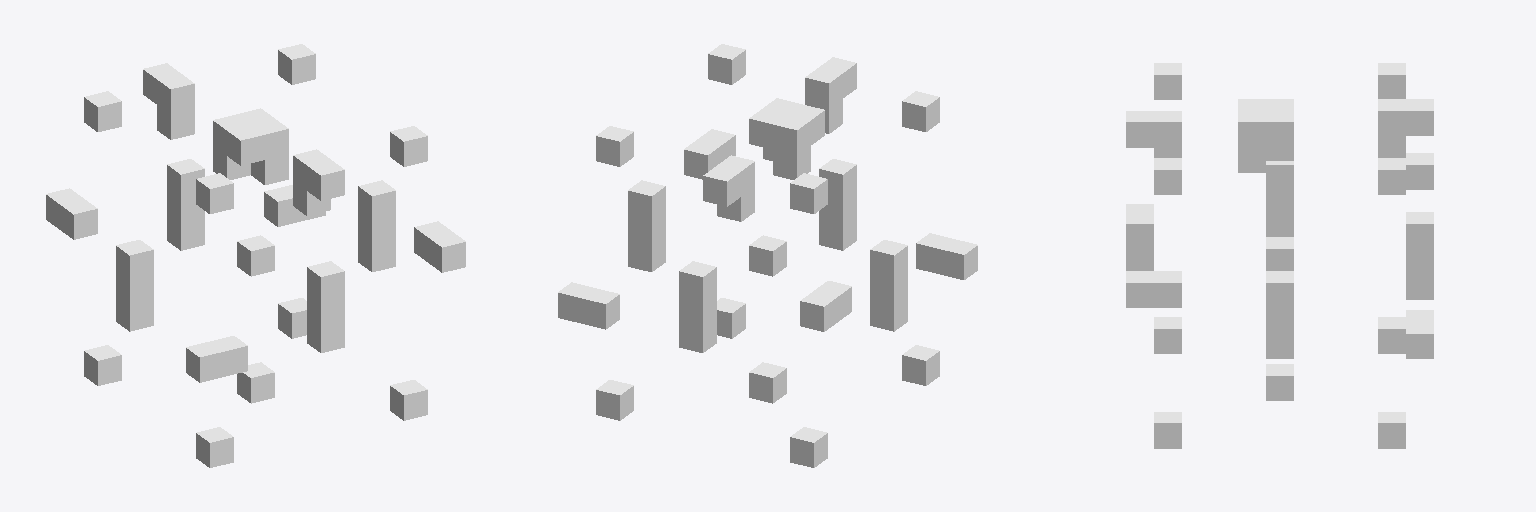
The model's file is level_04.obj.
3 views of the same model, side by side, from view 1: azimuth 30°, elevation 25°; view 2: azimuth 150°, elevation 25°; view 3: azimuth 270°, elevation 25° (orthographic).
Visible parts, largest first — view 1: object 1; view 2: object 1; view 3: object 1.
Part boxes in pixels (x1,y1,x2,y2): object 1: (46,44,465,467); object 1: (558,44,977,467); object 1: (1126,63,1433,448).
Bounding box in the file's own units: 1.1 × 1.1 × 1.1.